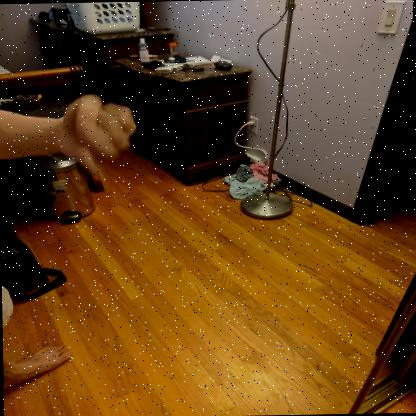J: (62, 92, 137, 187)
